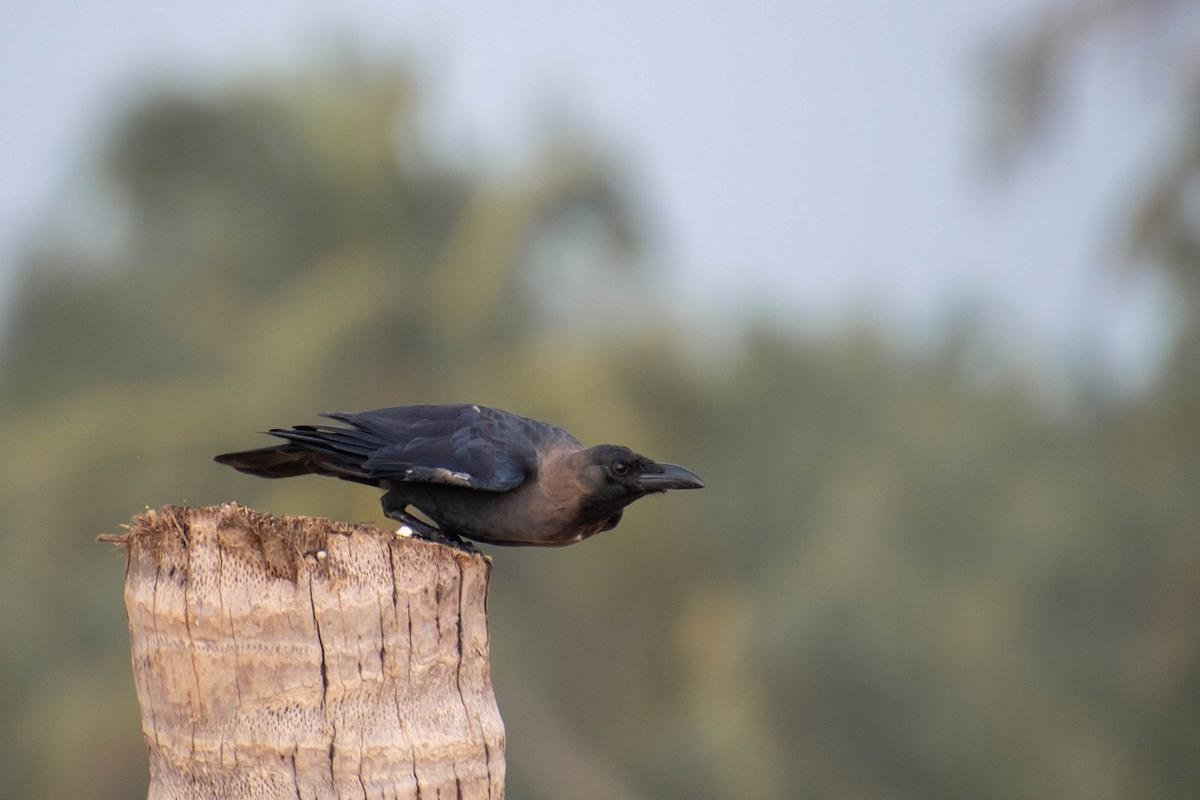crow: (213, 402, 717, 558)
